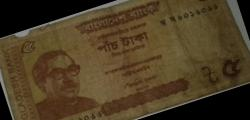5 taka: (11, 5, 245, 114)
